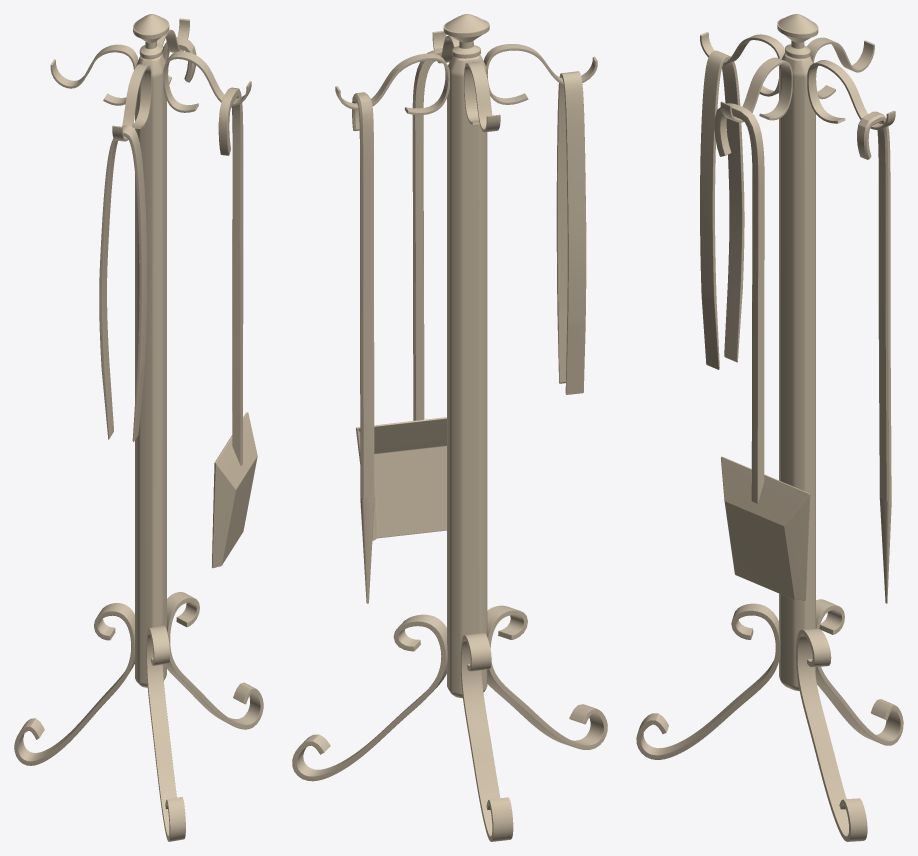
The model's file is outiles_cheminer.fbx.
The picture shows the model from 3 angles, left to right: view 1: azimuth 30°, elevation 25°; view 2: azimuth 150°, elevation 25°; view 3: azimuth 270°, elevation 25°; orthographic projection.
Visible parts, largest first — view 1: haut_01; view 2: haut_01; view 3: haut_01.
Part boxes in pixels (box(x1,y1,x2,y2)): haut_01: box(14, 14, 263, 841); haut_01: box(292, 14, 607, 841); haut_01: box(636, 14, 903, 841).
Bounding box in the file's own units: 25.25 × 79.72 × 25.23.
